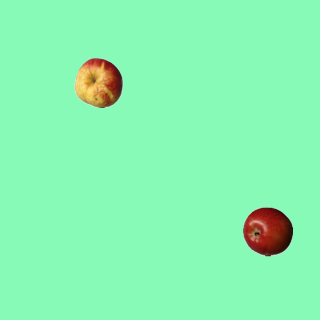Apple Braeburn: (242, 206, 292, 256)
Apple Red Yellow 1: (73, 57, 123, 107)
